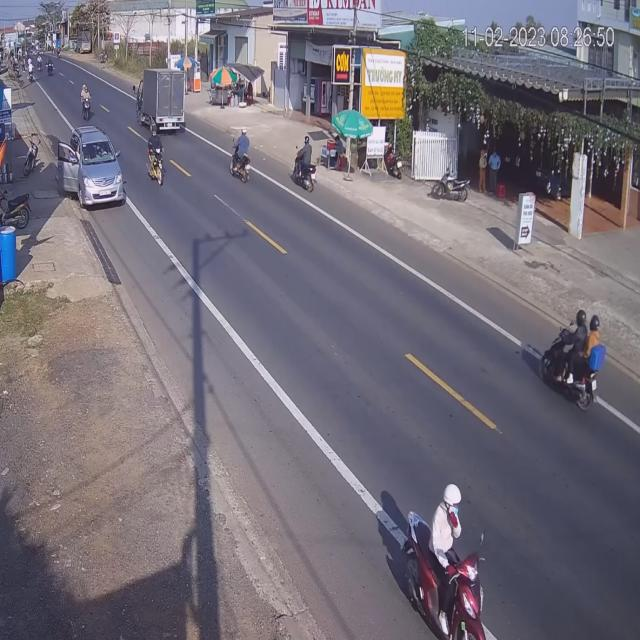car: (68, 125, 124, 209)
motorbike: (402, 484, 486, 640), (542, 304, 603, 412), (289, 136, 315, 193), (232, 129, 253, 184), (147, 131, 164, 187), (80, 84, 92, 121)
truck: (136, 71, 186, 135)
